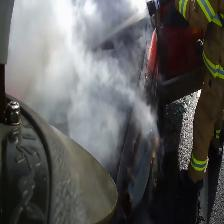smoke: (10, 2, 156, 141)
